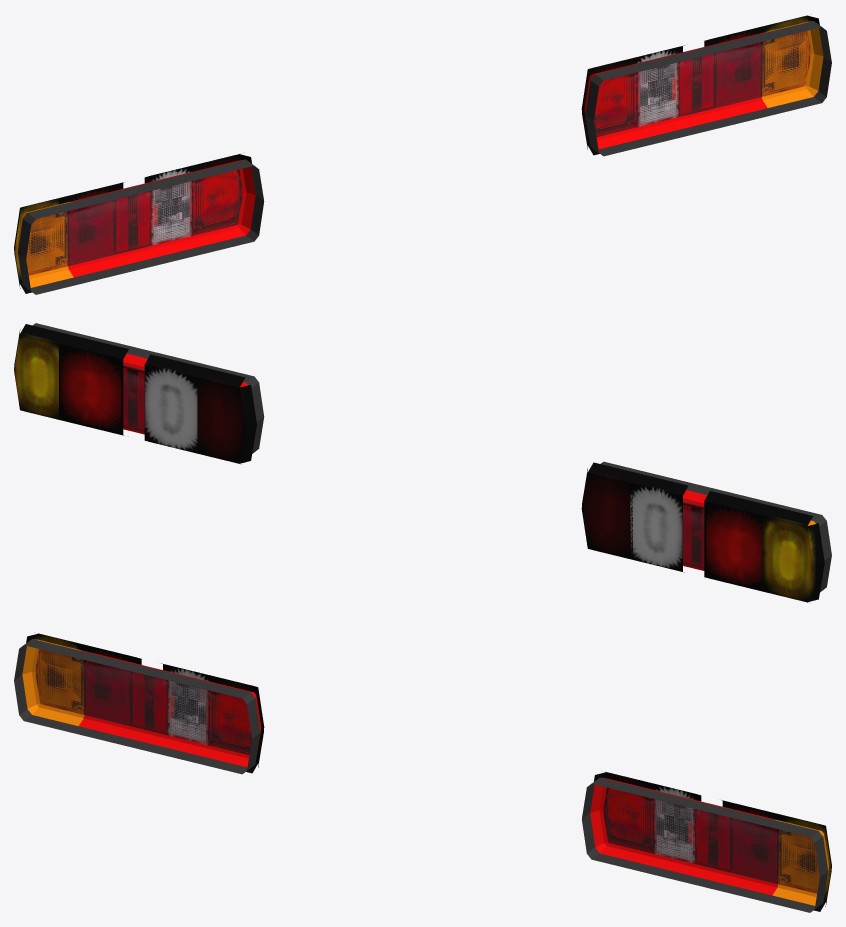
File: VehLight_KIVS_SB-601.FBX
The picture shows the model from 3 angles, top to bottom: view 1: azimuth 30°, elevation 25°; view 2: azimuth 150°, elevation 25°; view 3: azimuth 330°, elevation 25°; orthographic projection.
Parts seen in each view (by area): view 1: VehLight KIVS SB-601 (Rght), VehLight KIVS SB-601 (Lft), Flare KIVS SB-601 (Lft) BRAKE, Flare KIVS SB-601 (Rght) STEER; view 2: Flare KIVS SB-601 (Lft) PARKING, Flare KIVS SB-601 (Rght) PARKING, Flare KIVS SB-601 (Rght) STEER, Flare KIVS SB-601 (Lft) BRAKE, Flare KIVS SB-601 (Lft) REVERSE, Flare KIVS SB-601 (Rght) REVERSE, Flare KIVS SB-601 (Rght) BRAKE, Flare KIVS SB-601 (Lft) STEER, VehLight KIVS SB-601 (Rght), VehLight KIVS SB-601 (Lft); view 3: VehLight KIVS SB-601 (Lft), VehLight KIVS SB-601 (Rght), Flare KIVS SB-601 (Lft) STEER, Flare KIVS SB-601 (Rght) BRAKE.
Part boxes in pixels (x1,y1,x2,y2): VehLight KIVS SB-601 (Rght): (17, 159, 264, 294); VehLight KIVS SB-601 (Lft): (584, 21, 831, 156); Flare KIVS SB-601 (Lft) BRAKE: (581, 58, 632, 155); Flare KIVS SB-601 (Rght) STEER: (14, 197, 61, 293); Flare KIVS SB-601 (Lft) PARKING: (59, 335, 128, 435); Flare KIVS SB-601 (Rght) PARKING: (704, 491, 767, 592); Flare KIVS SB-601 (Rght) STEER: (762, 505, 824, 602); Flare KIVS SB-601 (Lft) BRAKE: (194, 366, 256, 464); Flare KIVS SB-601 (Lft) REVERSE: (144, 354, 199, 453); Flare KIVS SB-601 (Rght) REVERSE: (629, 473, 688, 572); Flare KIVS SB-601 (Rght) BRAKE: (581, 462, 638, 559); Flare KIVS SB-601 (Lft) STEER: (14, 324, 70, 420); VehLight KIVS SB-601 (Rght): (601, 461, 831, 592); VehLight KIVS SB-601 (Lft): (33, 323, 264, 453); VehLight KIVS SB-601 (Lft): (581, 777, 828, 912); VehLight KIVS SB-601 (Rght): (14, 639, 261, 774); Flare KIVS SB-601 (Lft) STEER: (780, 815, 831, 911); Flare KIVS SB-601 (Rght) BRAKE: (213, 676, 264, 773).
Size of the model in its own units: 172 by 17.83 by 5.65.
1 material, 1 textured.
